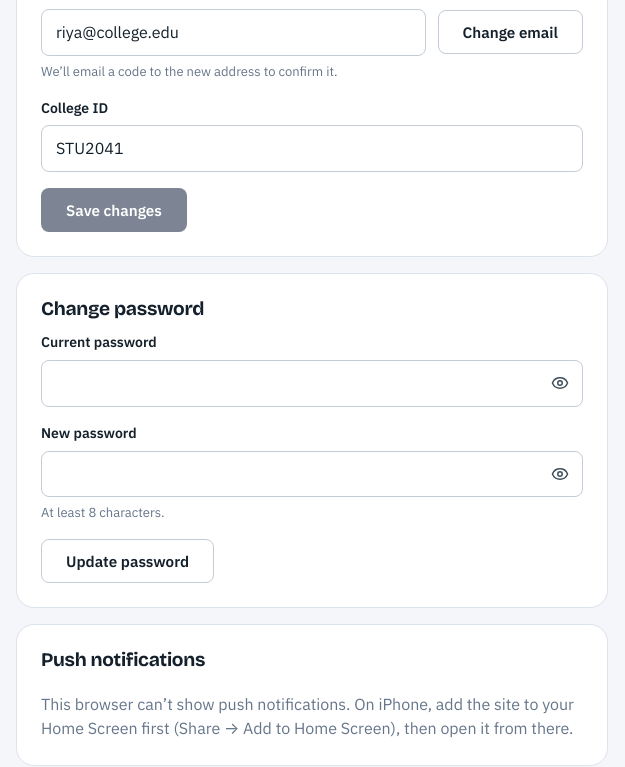
Test: Profile page › shows the server error when the current password is wrong
This screenshot has width=625, height=767.
(page scrolled)
Type "nope-nope" into the password field labelled "Current password" at (312, 383), box [41,360,583,407]
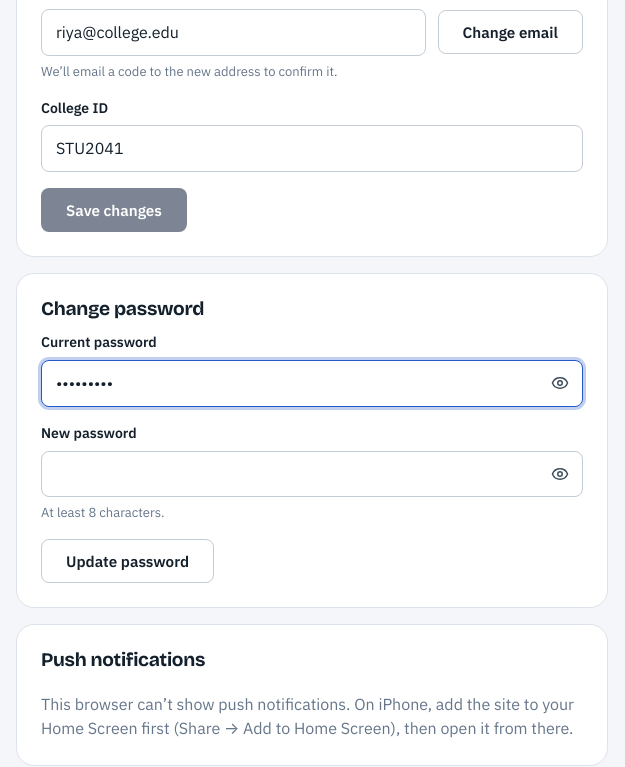
Type "new-password-1" into the password field labelled "New password" at (312, 474), box [41,450,583,497]
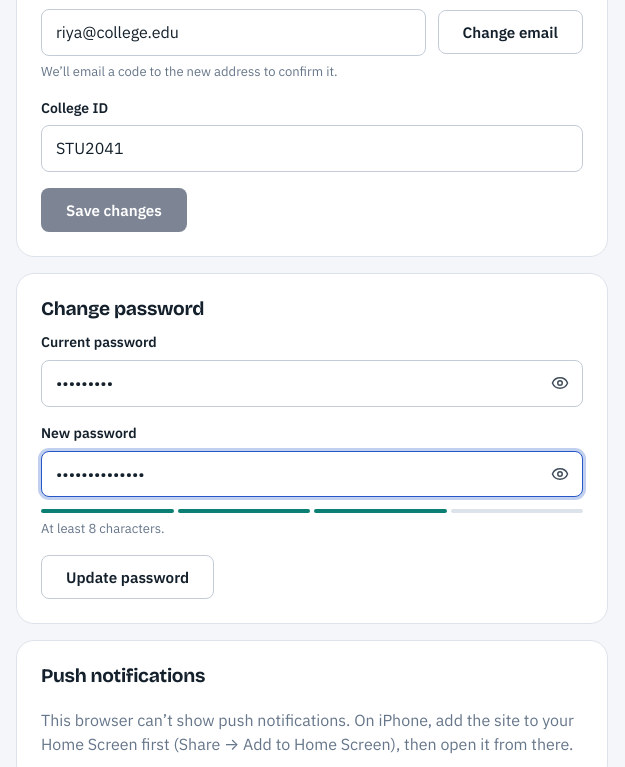
Click the button "Update password" at (128, 577), box [41,555,214,599]
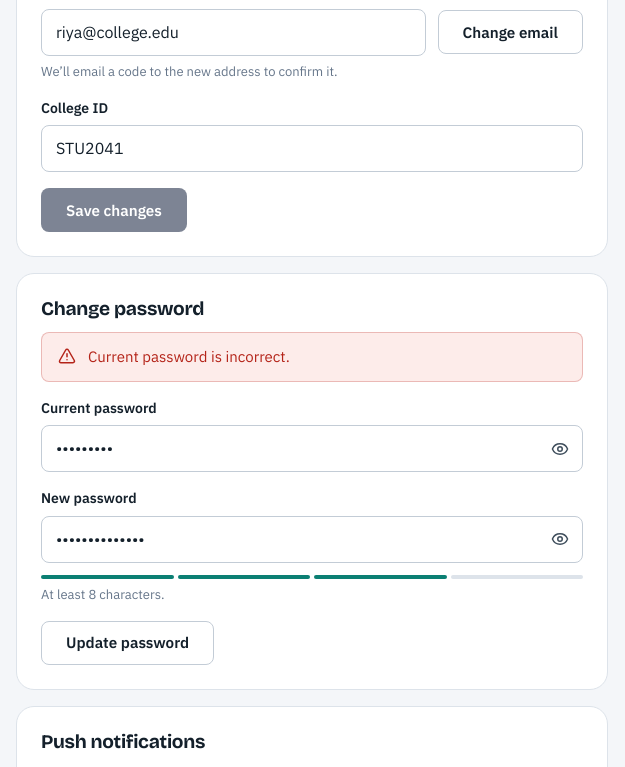
Expected: the message reads "Current password is incorrect.", [88,347,290,366]
